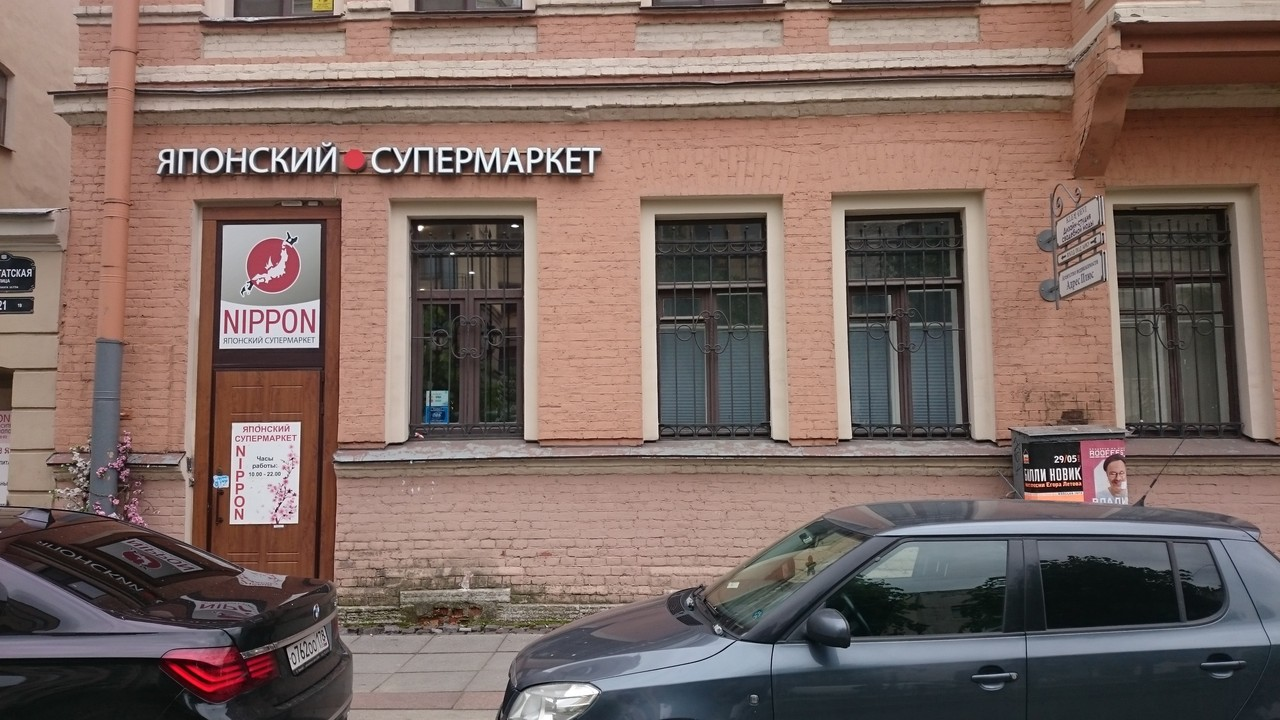cantilever: (1030, 174, 1108, 299)
door: (209, 371, 316, 580)
signboard: (156, 144, 600, 175)
window: (1115, 207, 1243, 443), (852, 212, 962, 442), (657, 217, 765, 444), (415, 218, 522, 442)
